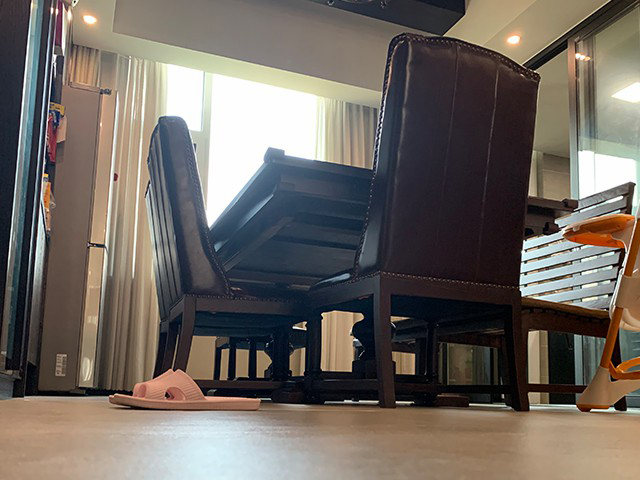curtain: (67, 44, 168, 391)
slippers: (108, 368, 262, 412)
stool: (298, 31, 541, 413), (145, 115, 299, 401), (506, 180, 640, 412)
